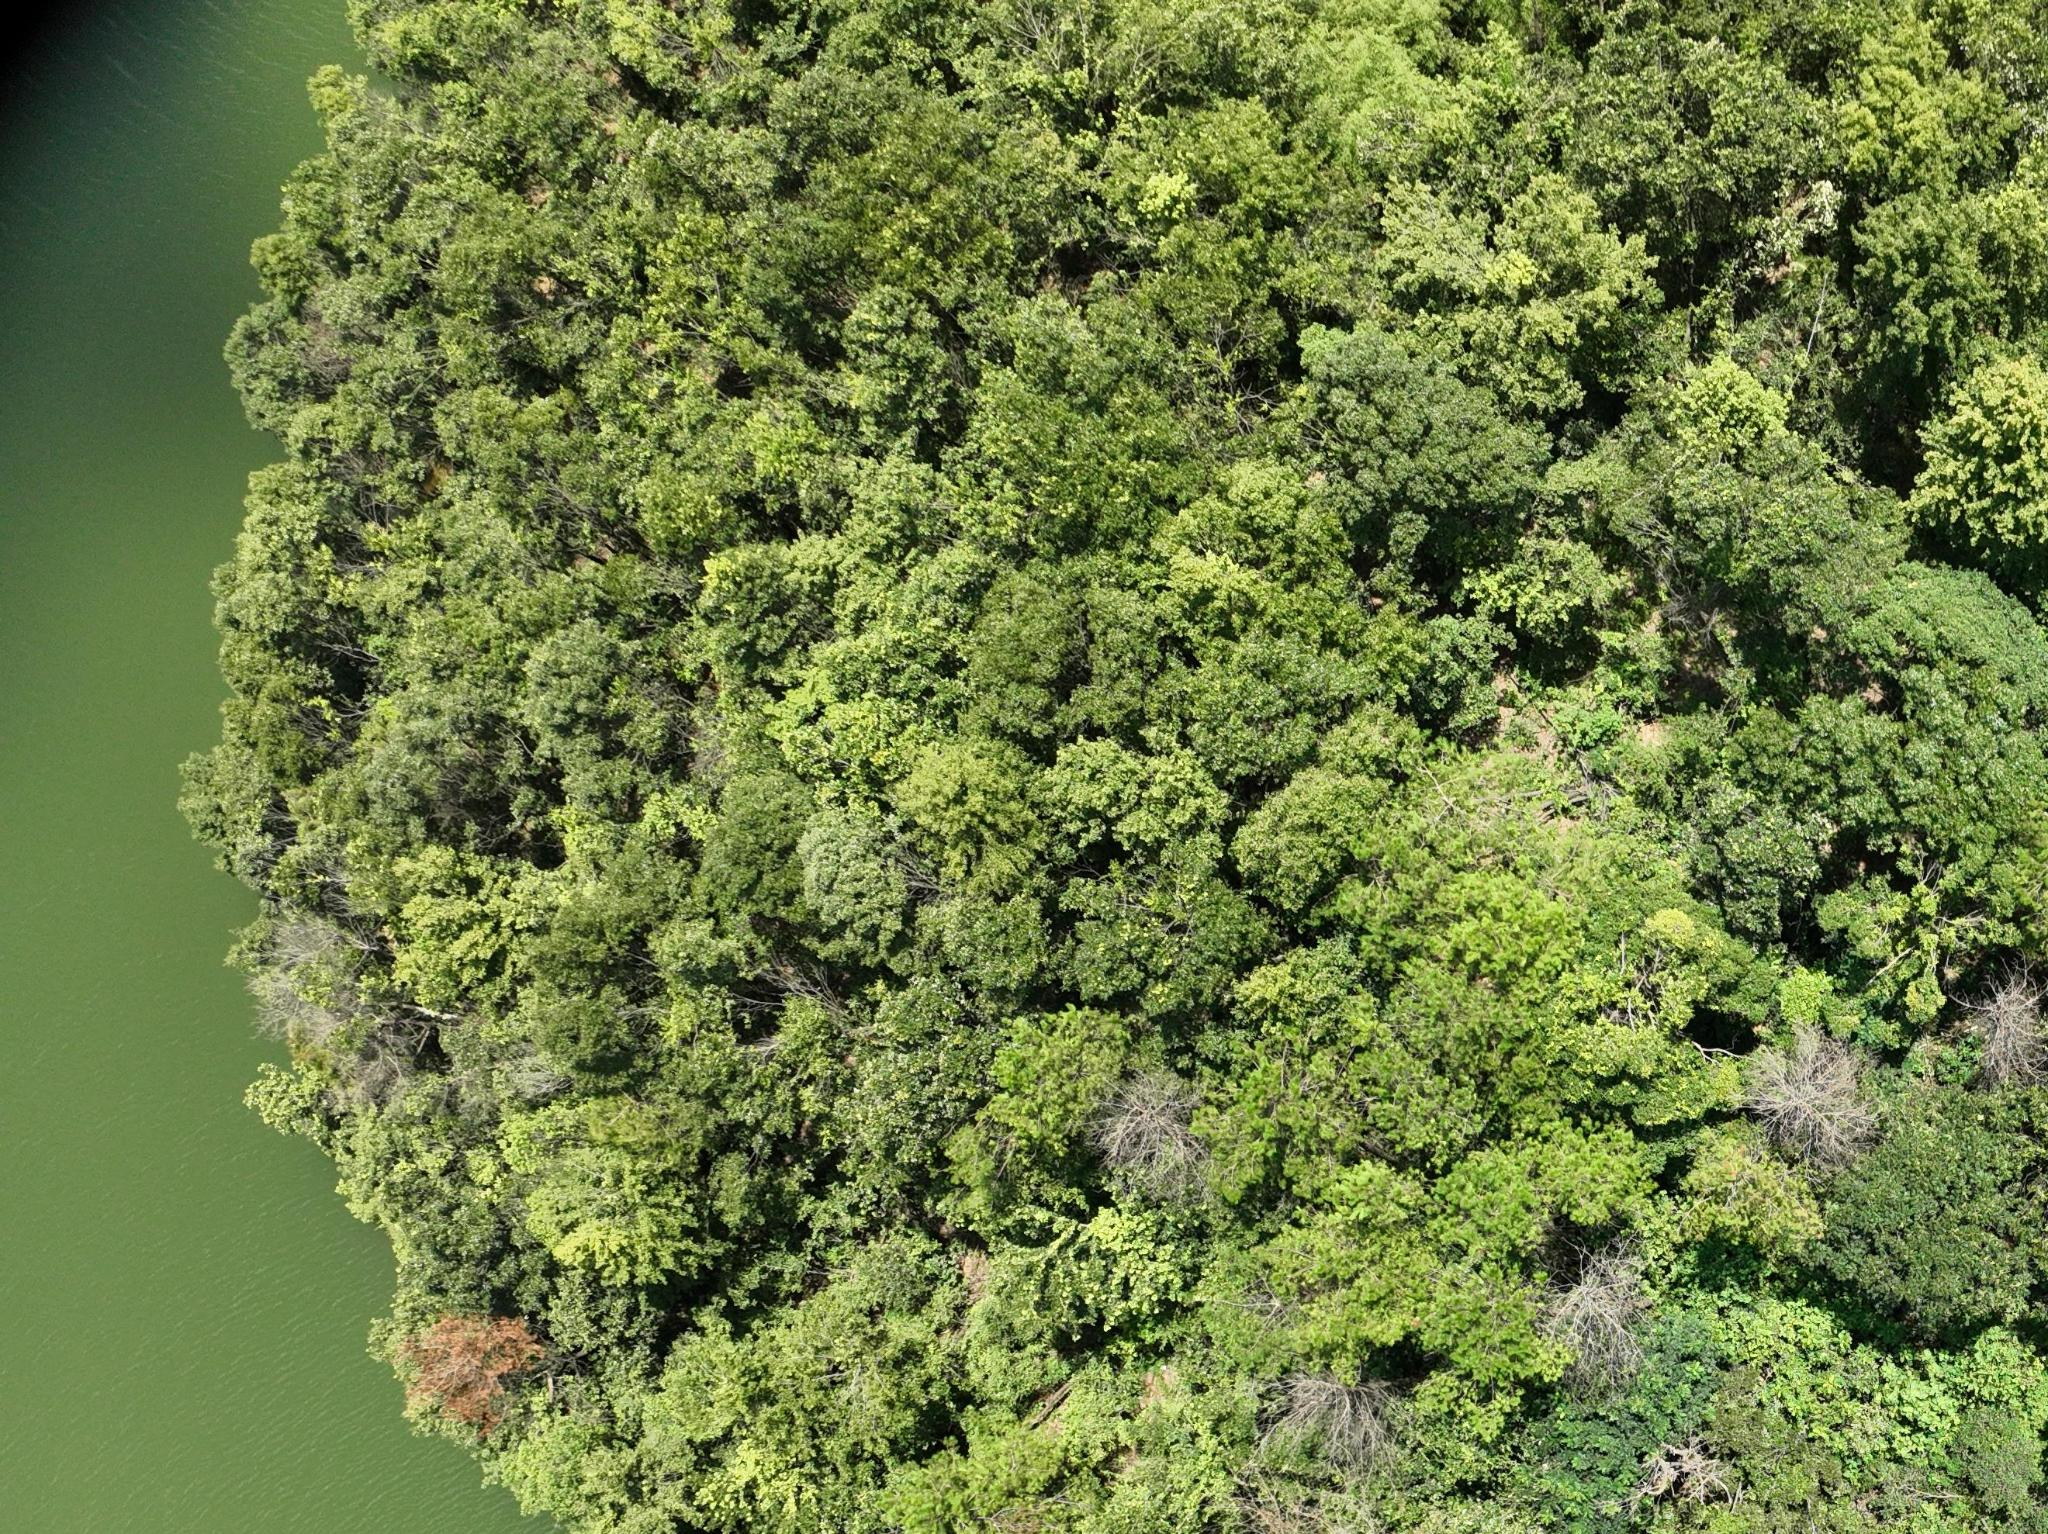dead: (1745, 1030, 1876, 1168), (242, 906, 358, 1046), (1545, 1241, 1652, 1386), (1276, 1365, 1410, 1474), (1102, 1073, 1208, 1199), (1959, 968, 2043, 1081), (1632, 1432, 1732, 1507)
heavy: (388, 1302, 541, 1437)
